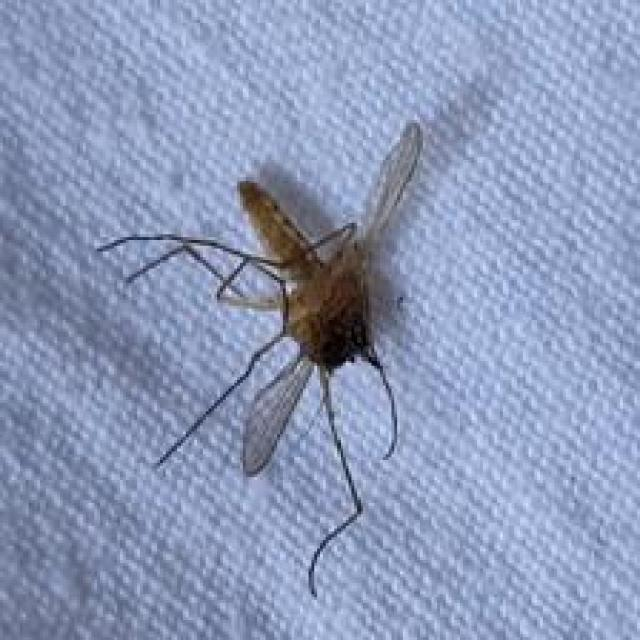Culex: (96, 119, 427, 598)
